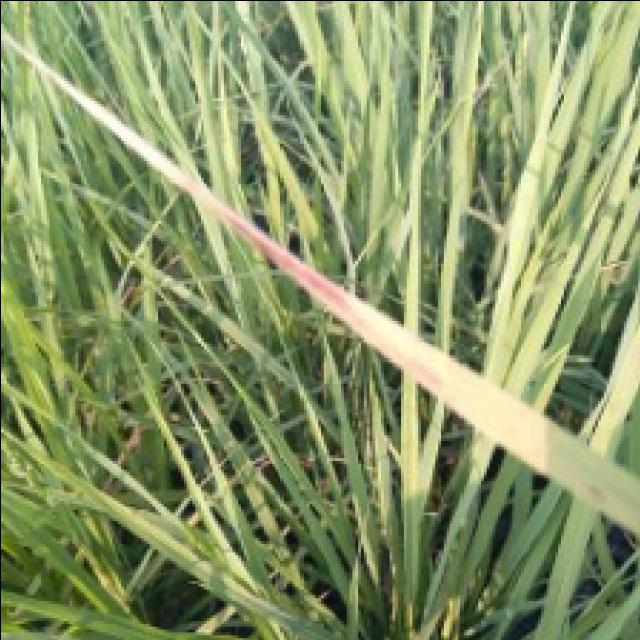Unhealthy: (188, 182, 360, 327)
